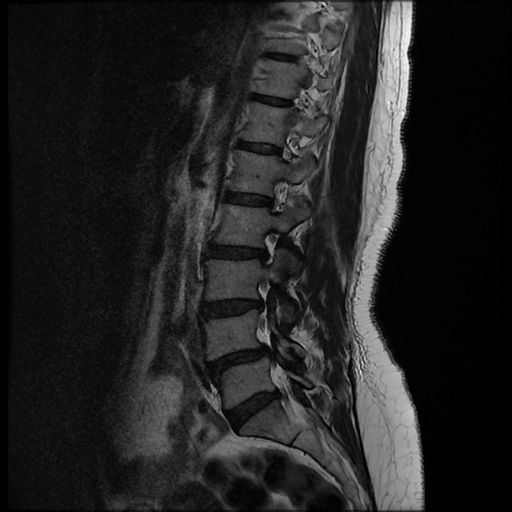RFS0: (246, 221, 296, 273), (252, 171, 301, 221)
